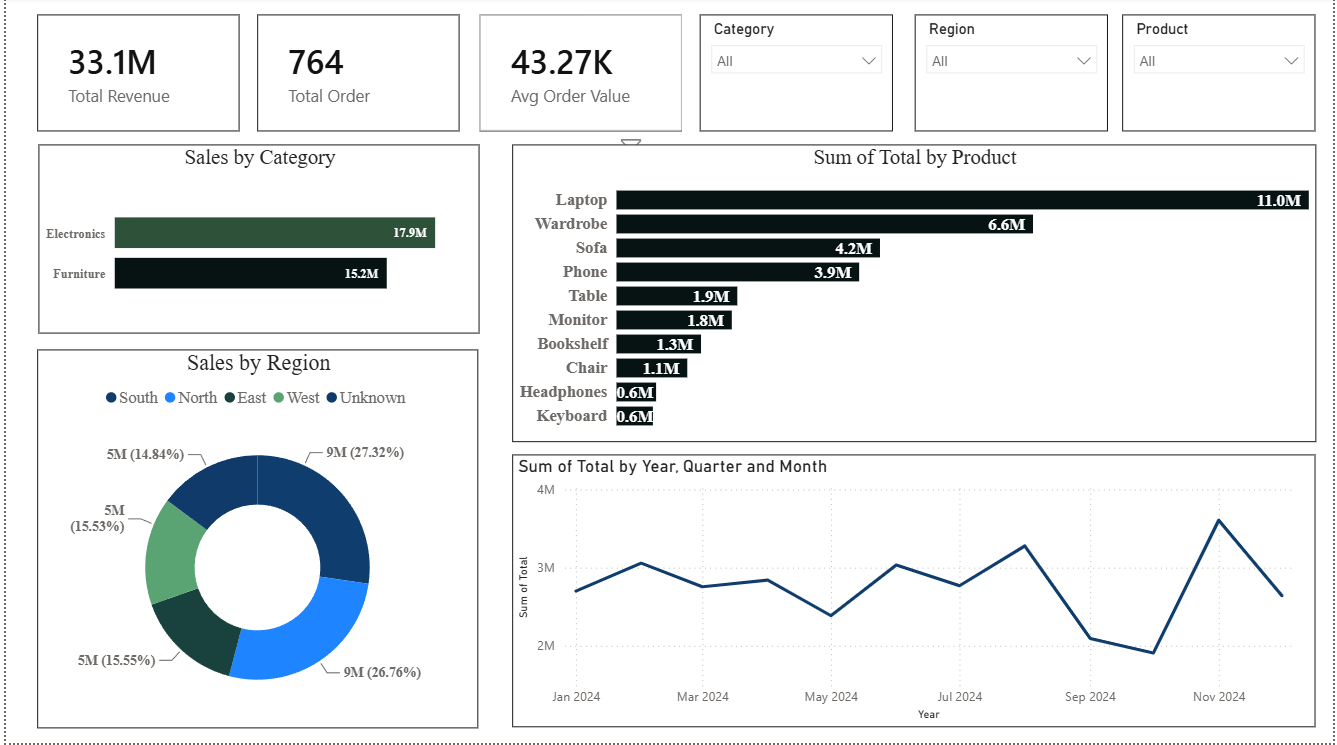

The page's visual inventory and layout, read from the dashboard file:
{"tool":"powerbi","page":{"name":"Page 1","canvas":[1280,720],"ordinal":0},"visuals":[{"type":"cardVisual","fields":{"Data":["Sum(sales_messy_data.Total)"]},"box":[30.2,16.5,194.9,112.5],"z":0},{"type":"cardVisual","fields":{"Data":["CountNonNull(sales_messy_data.Order_ID)"]},"box":[242.9,16.5,194.9,112.5],"z":1},{"type":"cardVisual","fields":{"Data":["Avg(sales_messy_data.Total)"]},"box":[456.9,16.5,194.9,112.5],"z":2},{"type":"barChart","title":"Sales by Category","fields":{"Y":["Sum(sales_messy_data.Total)"],"Category":["sales_messy_data.Category"]},"box":[31.4,142.4,425.9,182.2],"z":3},{"type":"donutChart","title":"Sales by Region","fields":{"Category":["sales_messy_data.Region"],"Y":["Sum(sales_messy_data.Total)"]},"box":[30.2,340.2,425.9,365.6],"z":4},{"type":"lineChart","fields":{"Category":["sales_messy_data.Date.Variation.Date Hierarchy.Year","sales_messy_data.Date.Variation.Date Hierarchy.Quarter","sales_messy_data.Date.Variation.Date Hierarchy.Month","sales_messy_data.Date.Variation.Date Hierarchy.Day"],"Y":["Sum(sales_messy_data.Total)"]},"box":[488.5,441.9,775.3,263.5],"z":5},{"type":"slicer","fields":{"Values":["sales_messy_data.Category"]},"box":[669.6,16.5,186.6,112.5],"z":6},{"type":"slicer","fields":{"Values":["sales_messy_data.Region"]},"box":[876.8,16.5,186.6,112.5],"z":7},{"type":"slicer","fields":{"Values":["sales_messy_data.Product"]},"box":[1077.2,16.5,186.6,112.5],"z":8},{"type":"barChart","fields":{"Y":["Sum(sales_messy_data.Total)"],"Category":["sales_messy_data.Product"]},"box":[488.6,142.4,775.7,287.1],"z":9}]}

Visuals, with their boxes in screenshot pixels (x1, y1, x2, y2), scaled from the page's 1280x720 canvas onto the 1337x745 screenshot:
cardVisual - Sum(sales_messy_data.Total): <box>32,17,235,133</box>
cardVisual - CountNonNull(sales_messy_data.Order_ID): <box>254,17,457,133</box>
cardVisual - Avg(sales_messy_data.Total): <box>477,17,681,133</box>
"Sales by Category" barChart: <box>33,147,478,336</box>
"Sales by Region" donutChart: <box>32,352,476,730</box>
lineChart - sales_messy_data.Date.Variation.Date Hierarchy.Year x sales_messy_data.Date.Variation.Date Hierarchy.Quarter: <box>510,457,1320,730</box>
slicer - sales_messy_data.Category: <box>699,17,894,133</box>
slicer - sales_messy_data.Region: <box>916,17,1111,133</box>
slicer - sales_messy_data.Product: <box>1125,17,1320,133</box>
barChart - Sum(sales_messy_data.Total) x sales_messy_data.Product: <box>510,147,1321,444</box>
